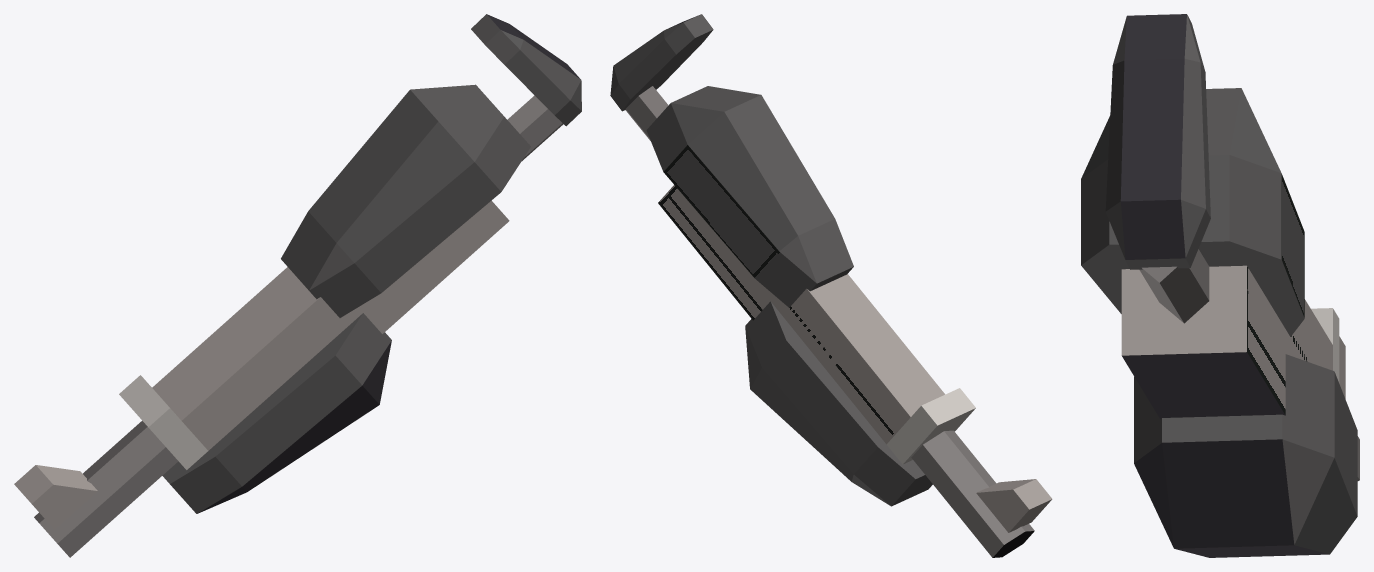
File: StandardRifleRightSide.gltf
3 views of the same model, side by side, from view 1: azimuth 30°, elevation 25°; view 2: azimuth 150°, elevation 25°; view 3: azimuth 270°, elevation 25° (orthographic). The views are drawn at different scales.
Parts seen in each view (by area): view 1: Pad, Body, Grip, barrel, Stock, sight, thing, stock; view 2: Pad, Body, Grip, barrel, Stock, thing, sight, stock; view 3: Grip, Stock, Body, Pad, stock, thing, sight.
Part boxes in pixels (x1,y1,x2,y2): Pad: (281,84,530,317); Body: (152,200,509,450); Grip: (162,313,391,513); barrel: (34,420,178,557); Stock: (471,14,581,126); sight: (14,465,97,529); thing: (119,375,207,469); stock: (507,95,563,161); Pad: (646,86,853,307); Body: (658,185,944,444); Grip: (745,301,932,506); barrel: (911,430,1034,557); Stock: (610,14,713,111); thing: (886,388,975,464); sight: (976,479,1052,532); stock: (625,86,668,140); Grip: (1134,354,1357,557); Stock: (1105,14,1210,269); Body: (1121,265,1332,418); Pad: (1081,88,1304,336); stock: (1139,249,1209,323); thing: (1311,308,1339,382); sight: (1339,336,1345,398).
Size of the model in its own units: 1.27 by 1.11 by 0.3446.
Materials: 1 (1 with a texture image).
